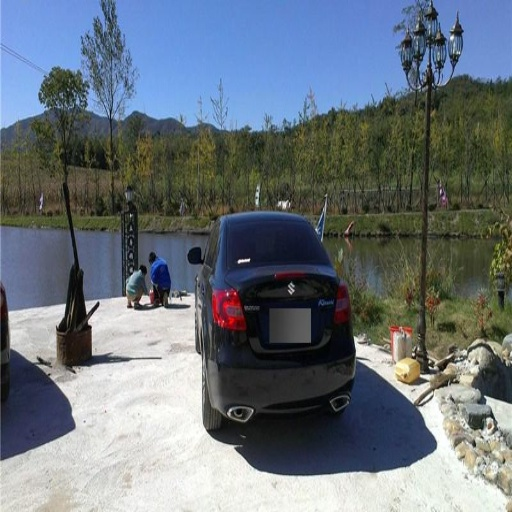back_bumper: (201, 334, 354, 428)
